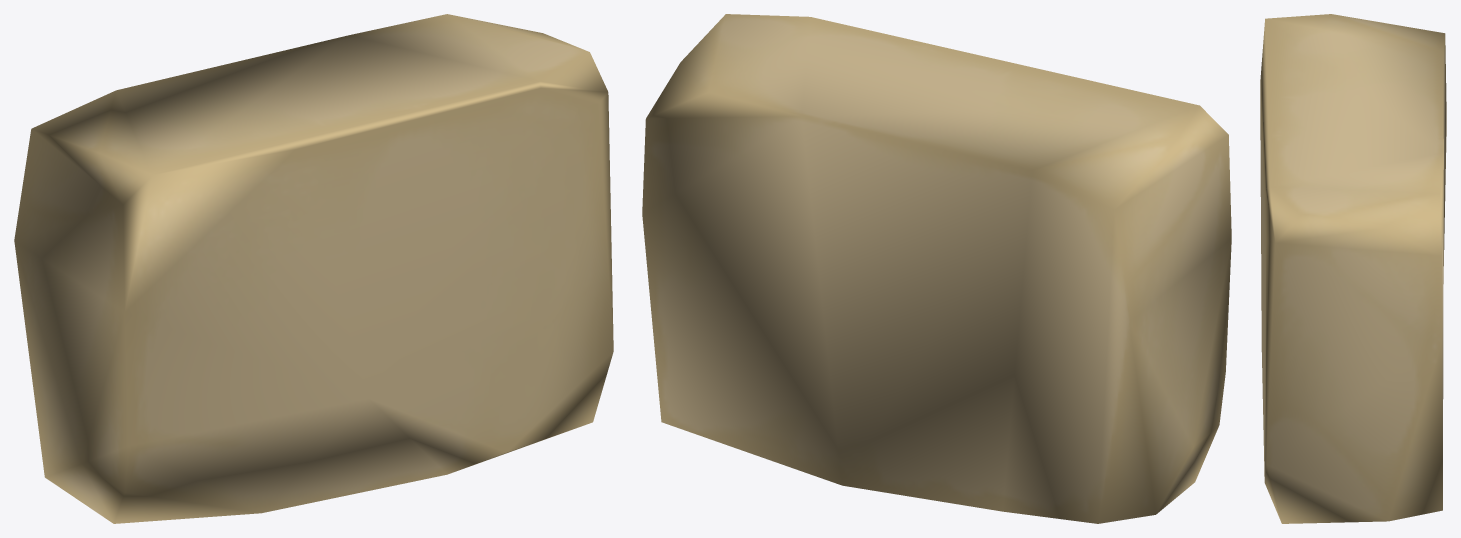
File: Brick2.fbx
The picture shows the model from 3 angles, left to right: view 1: azimuth 30°, elevation 25°; view 2: azimuth 150°, elevation 25°; view 3: azimuth 270°, elevation 25°; orthographic projection. The views are drawn at different scales.
Parts seen in each view (by area): view 1: 2low1; view 2: 2low1; view 3: 2low1.
Part boxes in pixels (bbox=[...]): 2low1: bbox=[14, 14, 613, 523]; 2low1: bbox=[642, 14, 1231, 523]; 2low1: bbox=[1260, 14, 1446, 523].
Bounding box in the file's own units: 0.5051 × 0.3631 × 0.19.
Materials: 1 (1 with a texture image).
